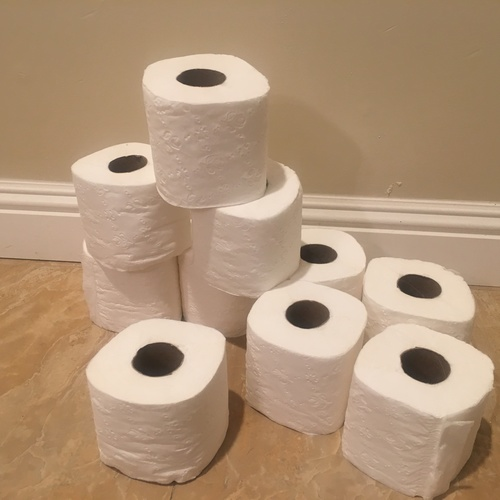roll: (340, 323, 494, 498), (86, 321, 229, 485), (142, 52, 271, 209), (246, 280, 370, 436), (70, 141, 192, 269), (191, 160, 302, 297), (361, 256, 476, 351), (81, 239, 184, 331), (178, 247, 257, 338), (284, 227, 367, 298)
